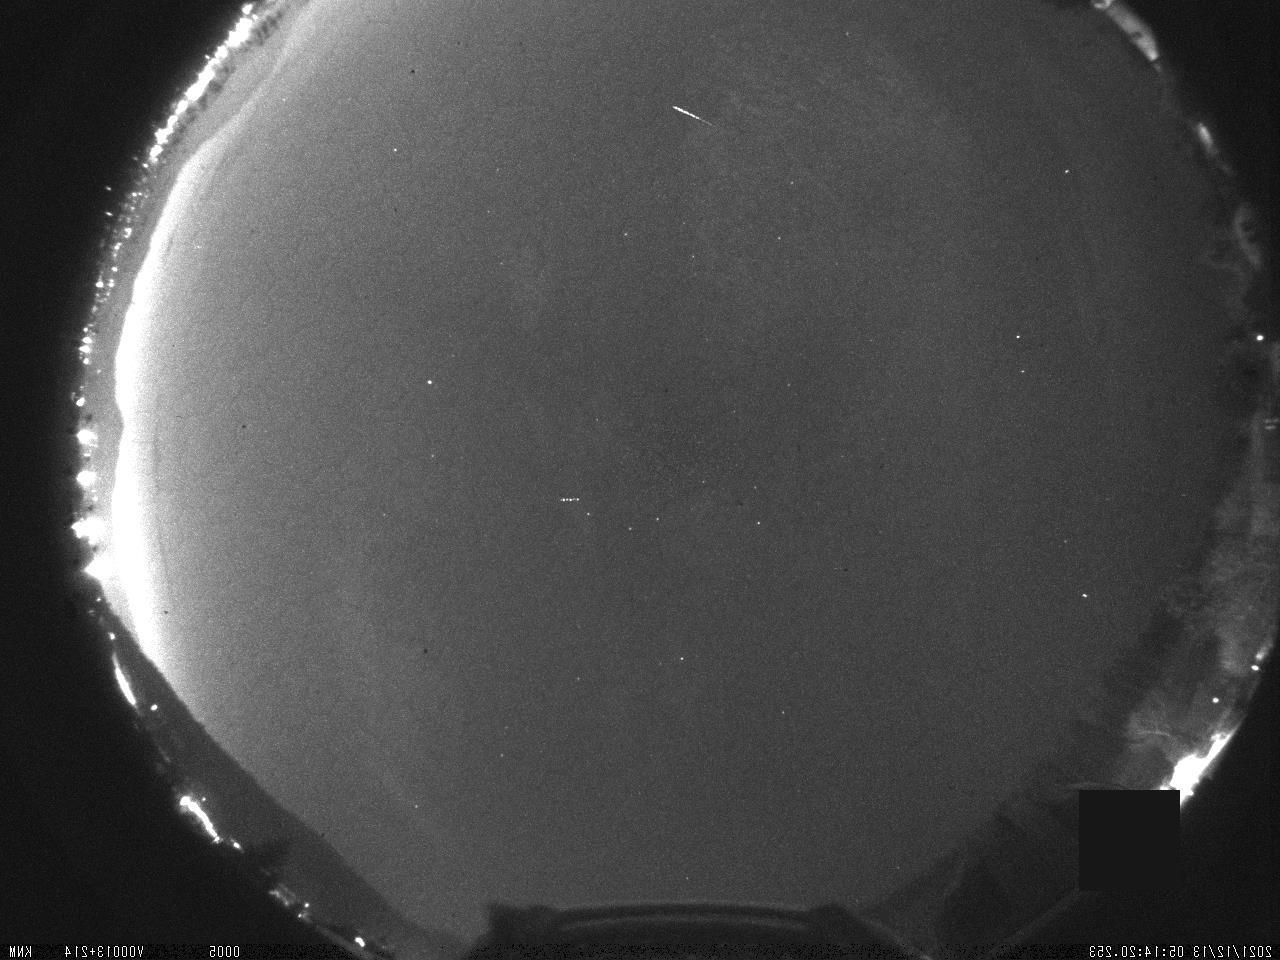meteor: (643, 88, 731, 147)
